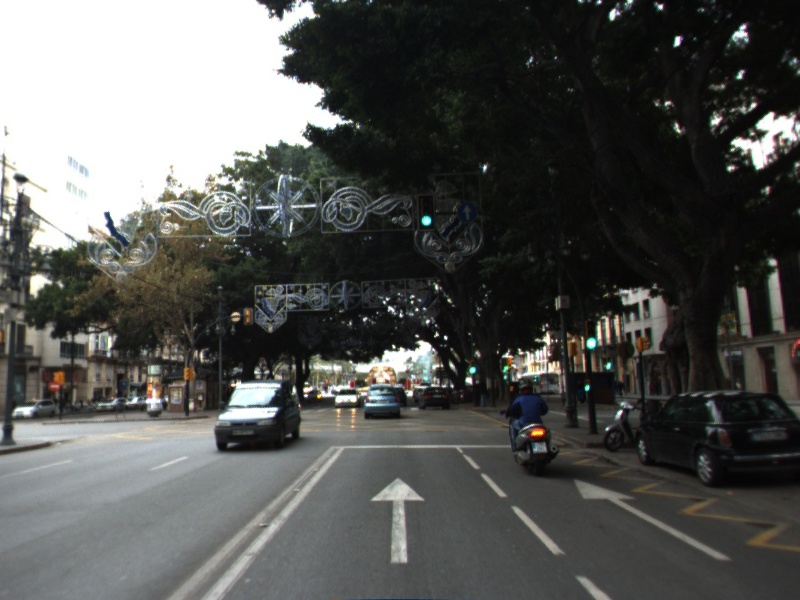STRAIGHT: (571, 475, 737, 564), (366, 474, 430, 568)
